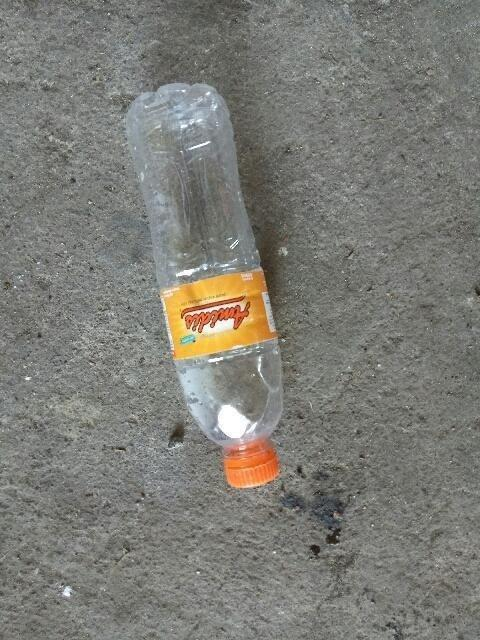bottle-plastic: (120, 80, 287, 490)
